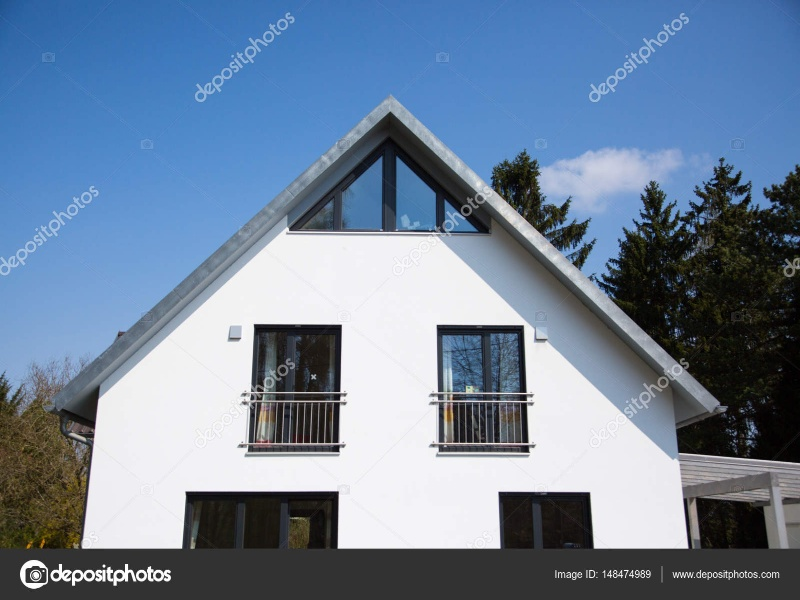window: (433, 320, 533, 456), (252, 317, 347, 459), (286, 119, 384, 232), (397, 123, 486, 235)
